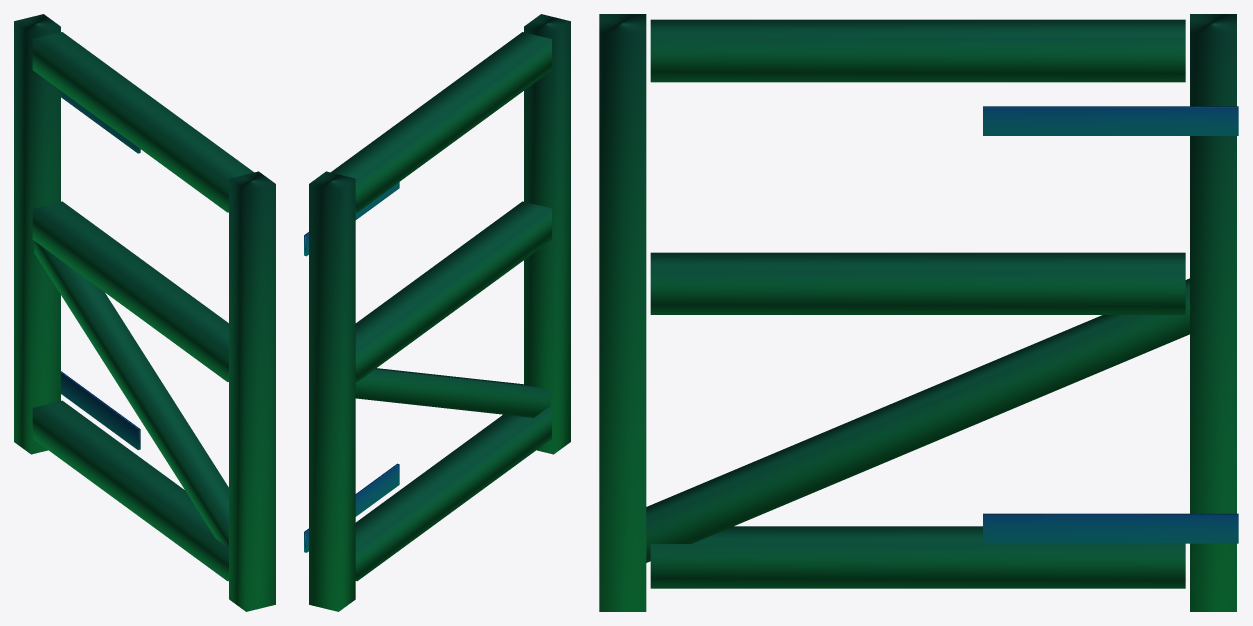
The model's file is stern_gate.glb.
3 renders of one model, left to right at view 1: azimuth 30°, elevation 25°; view 2: azimuth 150°, elevation 25°; view 3: azimuth 270°, elevation 25°, orthographic. The views are drawn at different scales.
Visible parts, largest first — view 1: stern_gate; view 2: stern_gate; view 3: stern_gate.
Part boxes in pixels (x1,y1,x2,y2): stern_gate: (14, 14, 275, 611); stern_gate: (304, 14, 570, 611); stern_gate: (599, 14, 1238, 611).
Size of what is drawn, in the model's own units: 0.0838 by 0.9932 by 0.9958.
